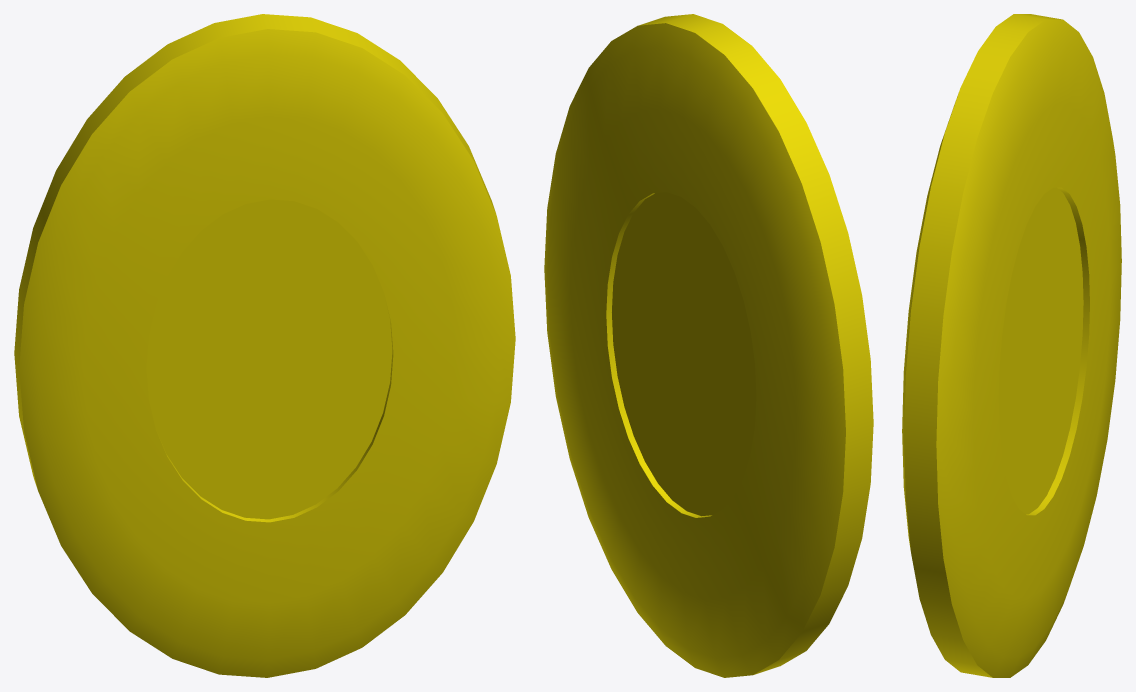
File: Coin.fbx
3 renders of one model, left to right at view 1: azimuth 30°, elevation 25°; view 2: azimuth 150°, elevation 25°; view 3: azimuth 270°, elevation 25°, orthographic. The views are drawn at different scales.
Parts seen in each view (by area): view 1: Cylinder; view 2: Cylinder; view 3: Cylinder.
Part boxes in pixels (box(x1,y1,x2,y2)): Cylinder: box(14, 14, 515, 677); Cylinder: box(544, 14, 873, 677); Cylinder: box(902, 14, 1121, 677).
Size of the model in its own units: 134 by 200 by 62.91.
